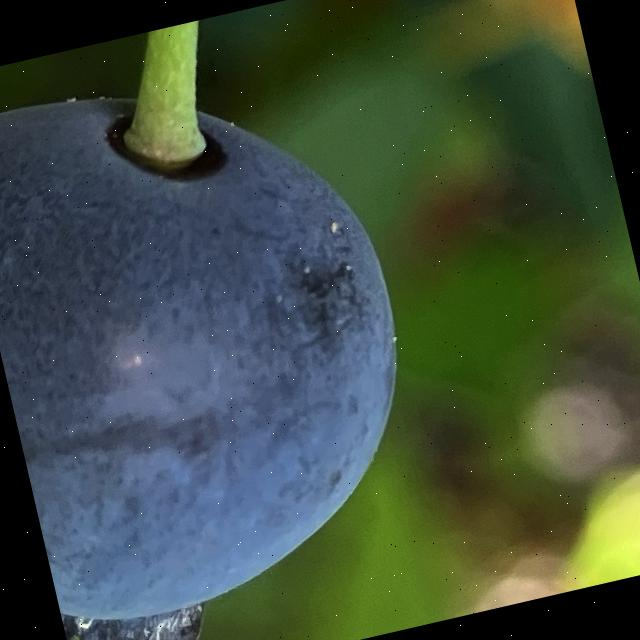Blueberries: (0, 31, 463, 640)
